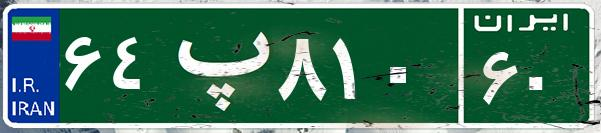0: (385, 28, 445, 110), (525, 38, 570, 115)
1: (330, 28, 385, 110)
4: (110, 28, 158, 105)
6: (57, 26, 110, 107), (475, 38, 525, 113)
8: (273, 28, 330, 110)
پ: (158, 15, 273, 115)
